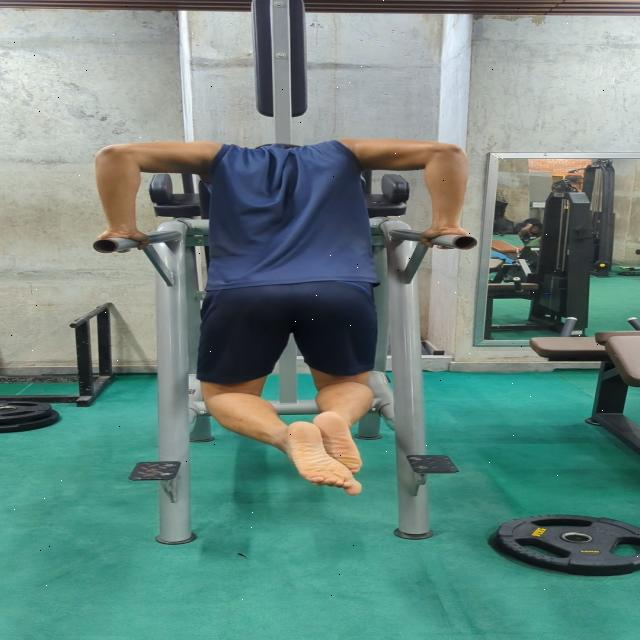Normal_Dips: (92, 109, 477, 488)
